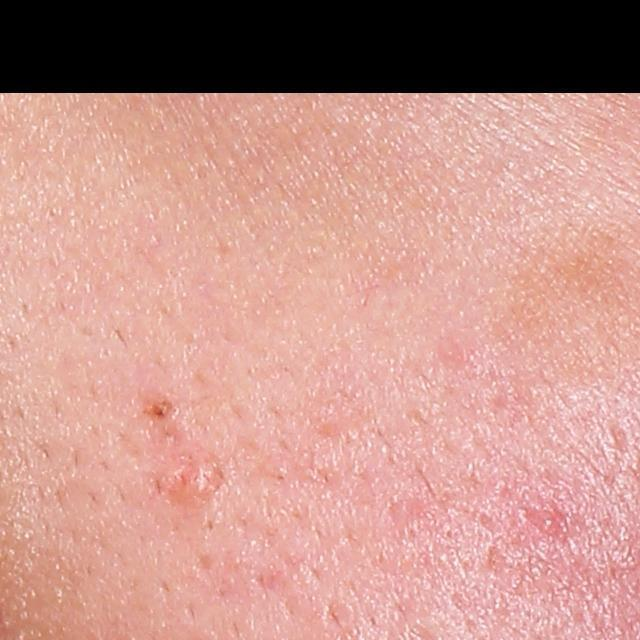papule: (169, 461, 225, 510), (531, 506, 569, 538)
